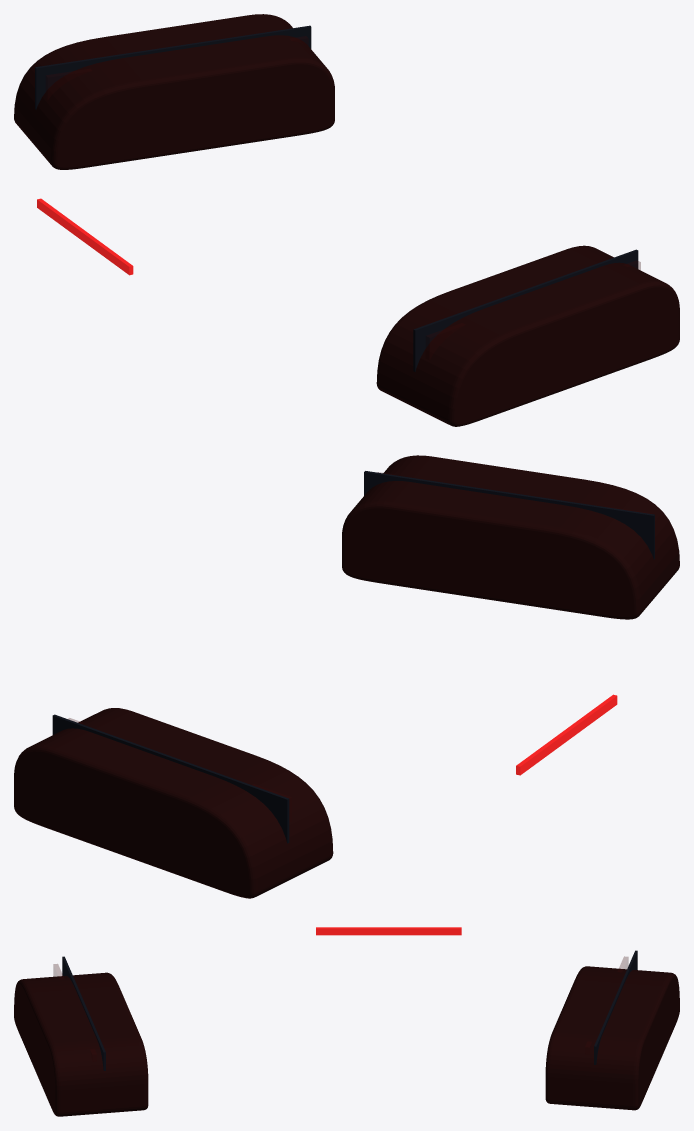
File: taillights.glb
3 views of the same model, one above another, from view 1: azimuth 30°, elevation 25°; view 2: azimuth 150°, elevation 25°; view 3: azimuth 270°, elevation 25° (orthographic). The views are drawn at different scales.
Visible parts, largest first — view 1: Taillights_Assembly; view 2: Taillights_Assembly; view 3: Taillights_Assembly.
Part boxes in pixels (x1=…): Taillights_Assembly: x1=14, y1=14, x2=679, y2=426; Taillights_Assembly: x1=14, y1=455, x2=679, y2=898; Taillights_Assembly: x1=14, y1=927, x2=679, y2=1116.
Bounding box in the file's own units: 0.5808 × 0.116 × 1.1.
